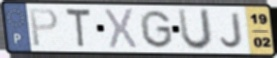G: (138, 9, 175, 50)
J: (218, 11, 244, 50)
P: (28, 8, 60, 48)
T: (63, 7, 93, 50)
U: (176, 7, 214, 53)
X: (103, 7, 139, 51)
